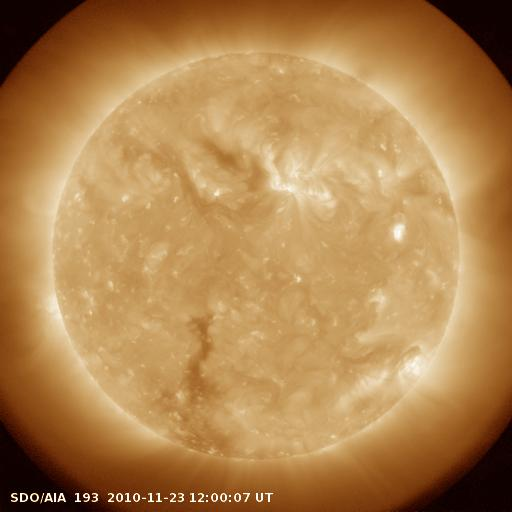coronal_hole: (149, 311, 234, 463), (202, 136, 263, 174)
